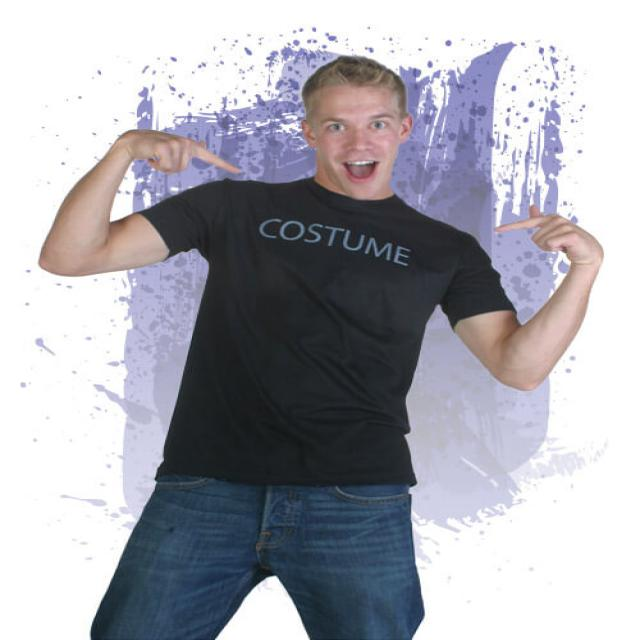human: (34, 43, 618, 640)
